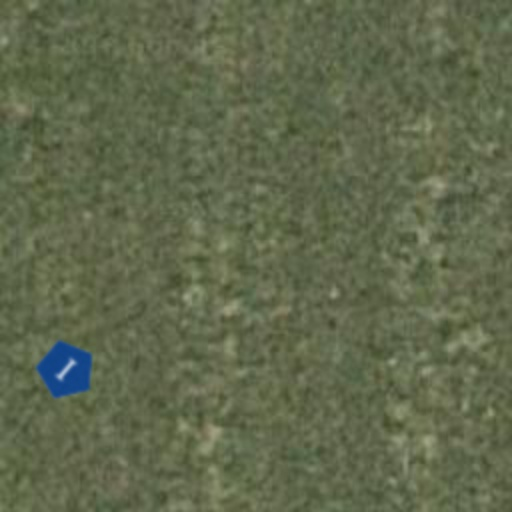pentagon: (22, 326, 110, 414)
